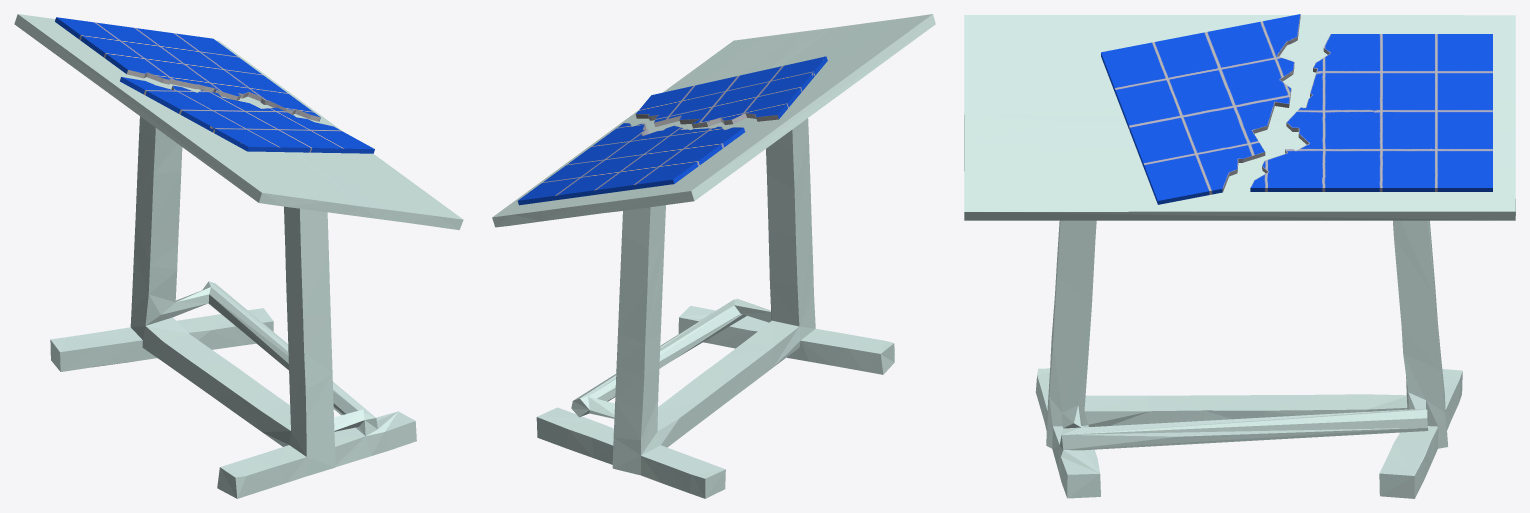
Rendered from zeichentischKaputtMitPapier.glb.
The picture shows the model from 3 angles, left to right: view 1: azimuth 30°, elevation 25°; view 2: azimuth 150°, elevation 25°; view 3: azimuth 270°, elevation 25°; orthographic projection. The views are drawn at different scales.
Parts seen in each view (by area): view 1: 283513_23_06_15_20_25_02_0, 300570_23_06_15_11_51_43_2, 300570_23_06_15_11_51_43_1; view 2: 283513_23_06_15_20_25_02_0, 300570_23_06_15_11_51_43_2, 300570_23_06_15_11_51_43_1; view 3: 283513_23_06_15_20_25_02_0, 300570_23_06_15_11_51_43_2, 300570_23_06_15_11_51_43_1.
Boxes of the visible parts, box(x1,y1,x2,y2) form: 283513_23_06_15_20_25_02_0: box(14, 14, 463, 498); 300570_23_06_15_11_51_43_2: box(55, 17, 320, 121); 300570_23_06_15_11_51_43_1: box(120, 77, 374, 153); 283513_23_06_15_20_25_02_0: box(492, 14, 935, 498); 300570_23_06_15_11_51_43_2: box(517, 123, 745, 205); 300570_23_06_15_11_51_43_1: box(635, 56, 827, 128); 283513_23_06_15_20_25_02_0: box(964, 15, 1515, 498); 300570_23_06_15_11_51_43_2: box(1250, 34, 1492, 191); 300570_23_06_15_11_51_43_1: box(1101, 14, 1300, 204).
Bounding box in the file's own units: 3.82 × 5.99 × 7.9.
Materials: 3 (3 with a texture image).
